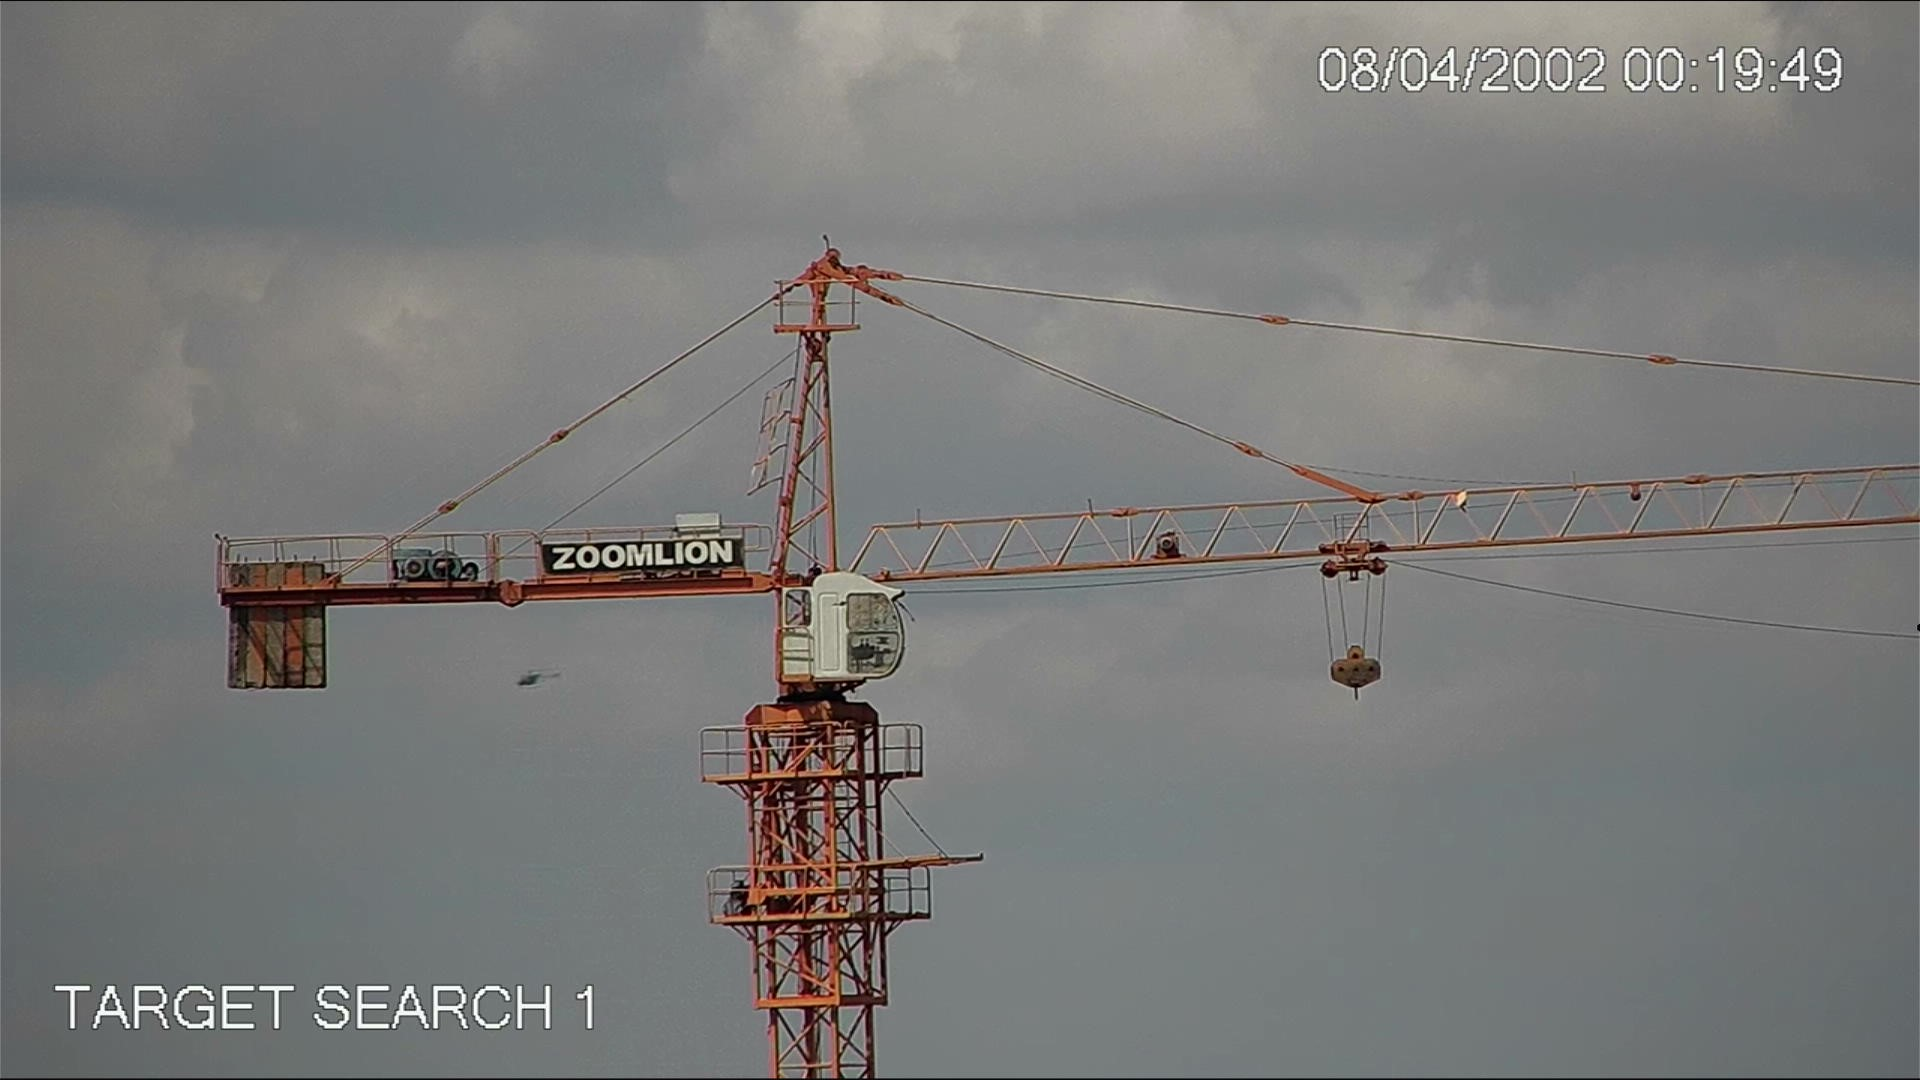SU_30: (513, 661, 562, 690)
